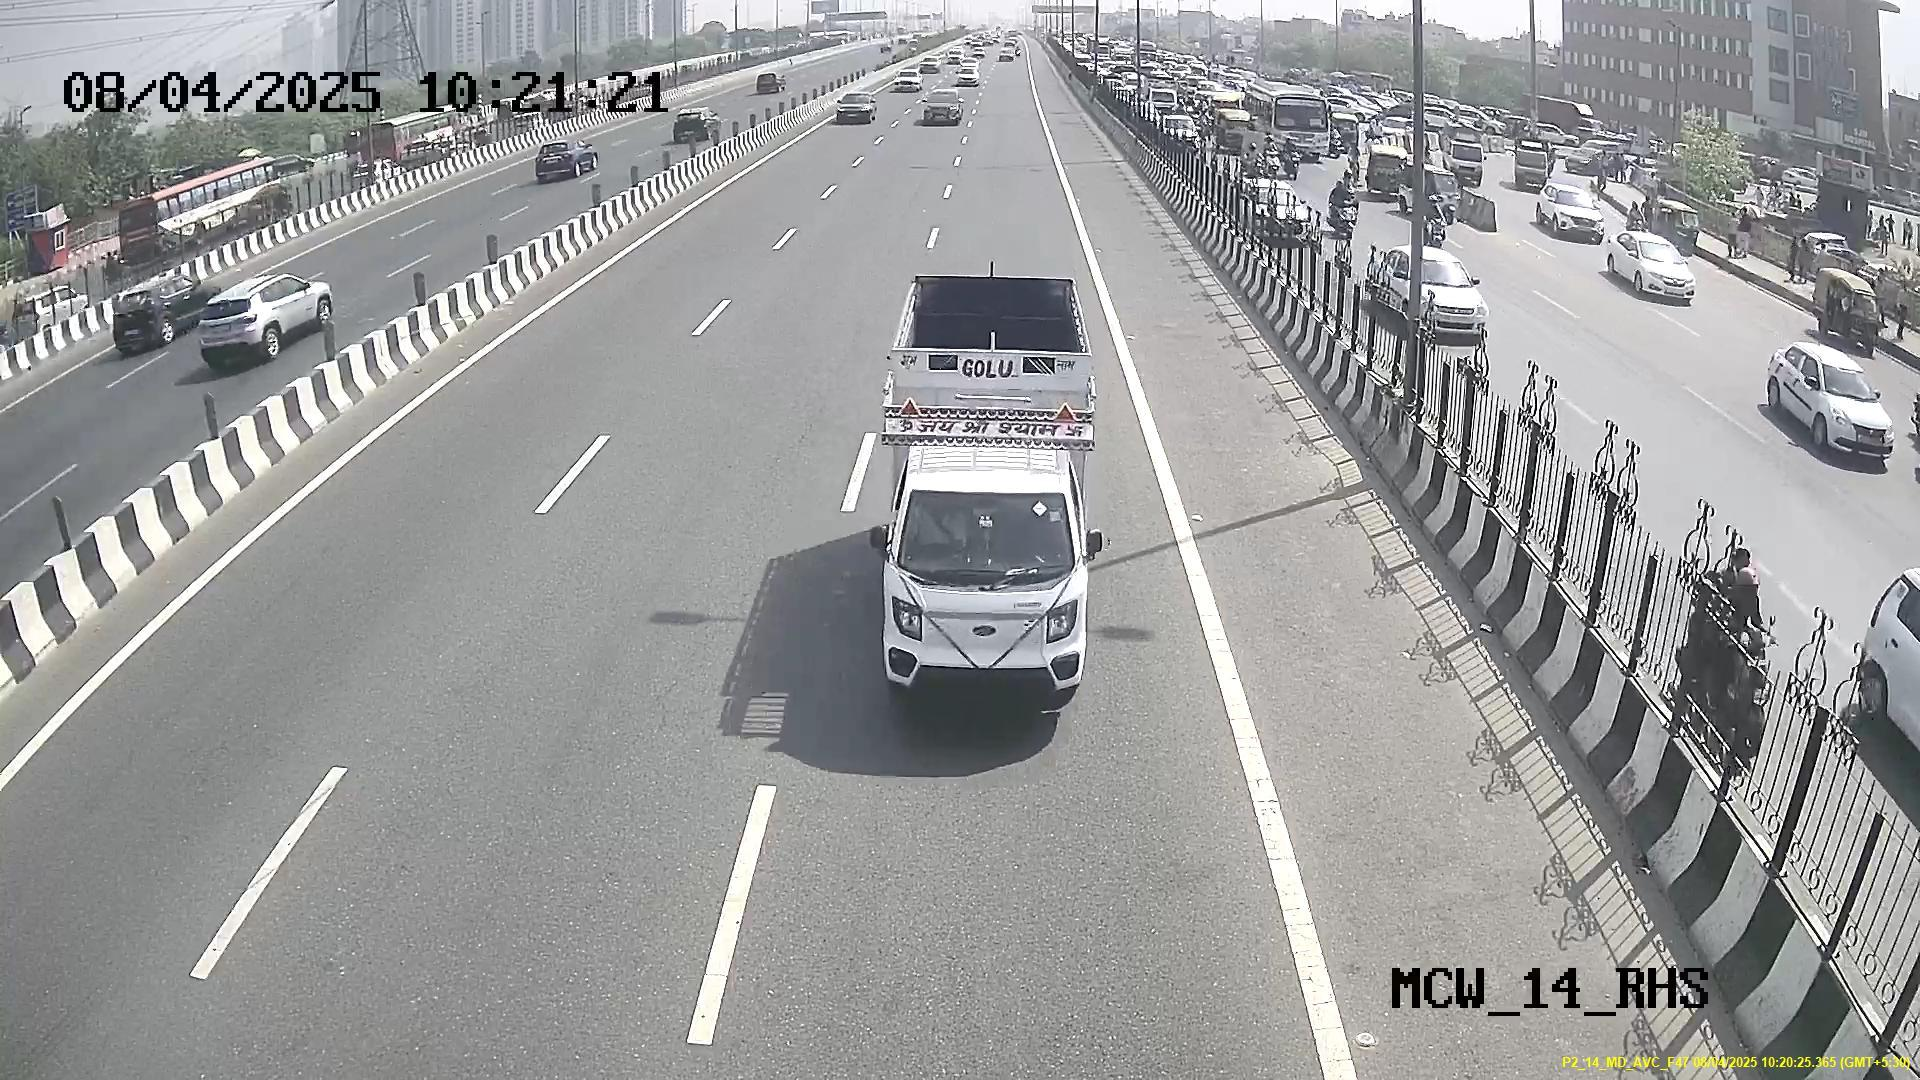car: (873, 465, 1085, 715)
